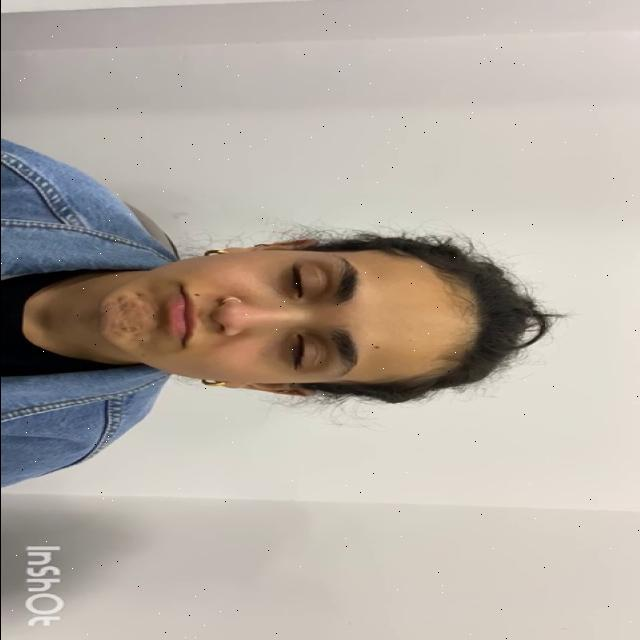natural: (104, 247, 464, 389)
